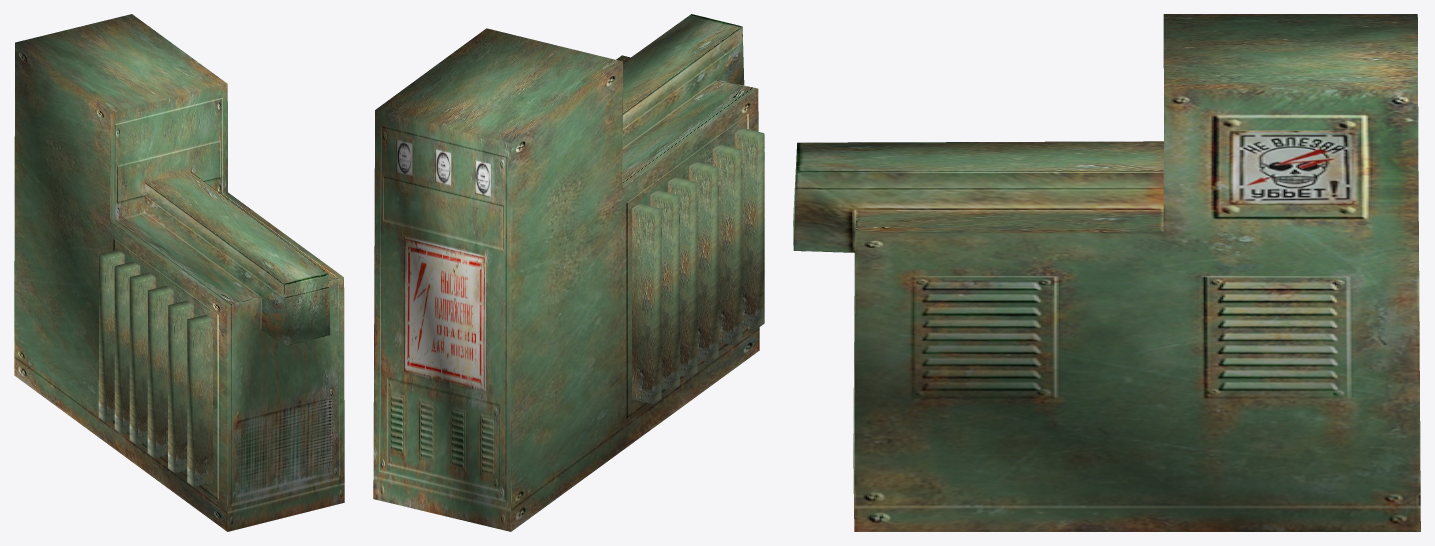
File: radio_module.glb
3 views of the same model, side by side, from view 1: azimuth 30°, elevation 25°; view 2: azimuth 150°, elevation 25°; view 3: azimuth 270°, elevation 25° (orthographic). The views are drawn at different scales.
Parts seen in each view (by area): view 1: radio_module; view 2: radio_module; view 3: radio_module.
Part boxes in pixels (left/top/right/bottom): radio_module: left=14, top=14, right=344, bottom=531; radio_module: left=373, top=14, right=764, bottom=531; radio_module: left=793, top=14, right=1420, bottom=531.
Bounding box in the file's own units: 0.12 × 0.28 × 0.36.
Materials: 1 (1 with a texture image).
